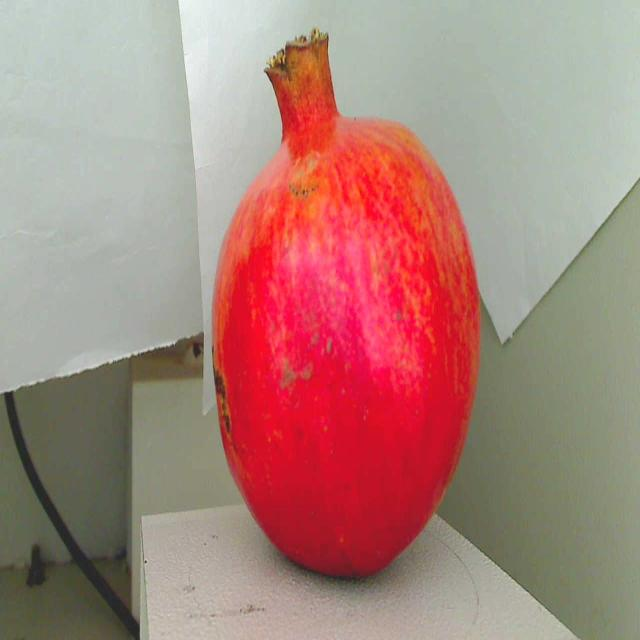pomegranate: (206, 29, 492, 596)
